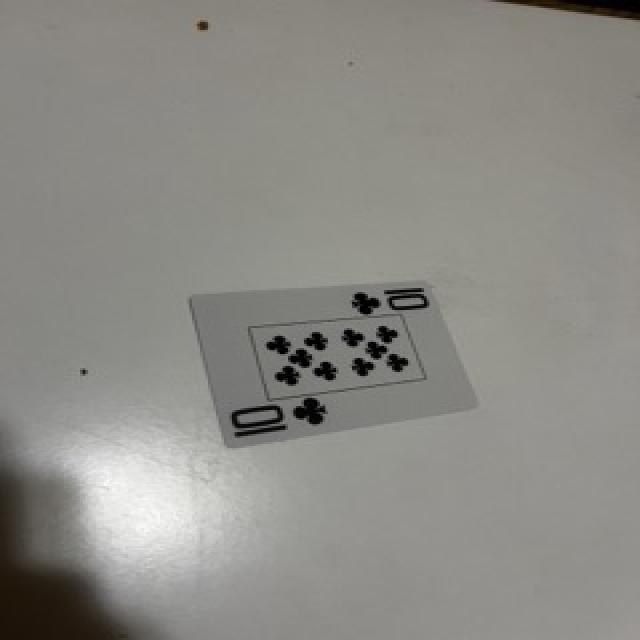10 of clubs: (190, 281, 477, 446)
